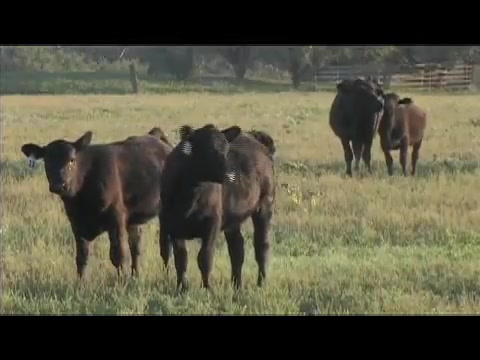cow: (21, 130, 174, 280), (159, 123, 279, 290), (330, 76, 382, 179), (375, 90, 429, 177)
